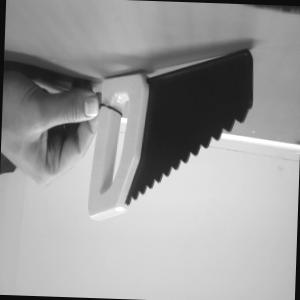serrote: (85, 42, 255, 226)
